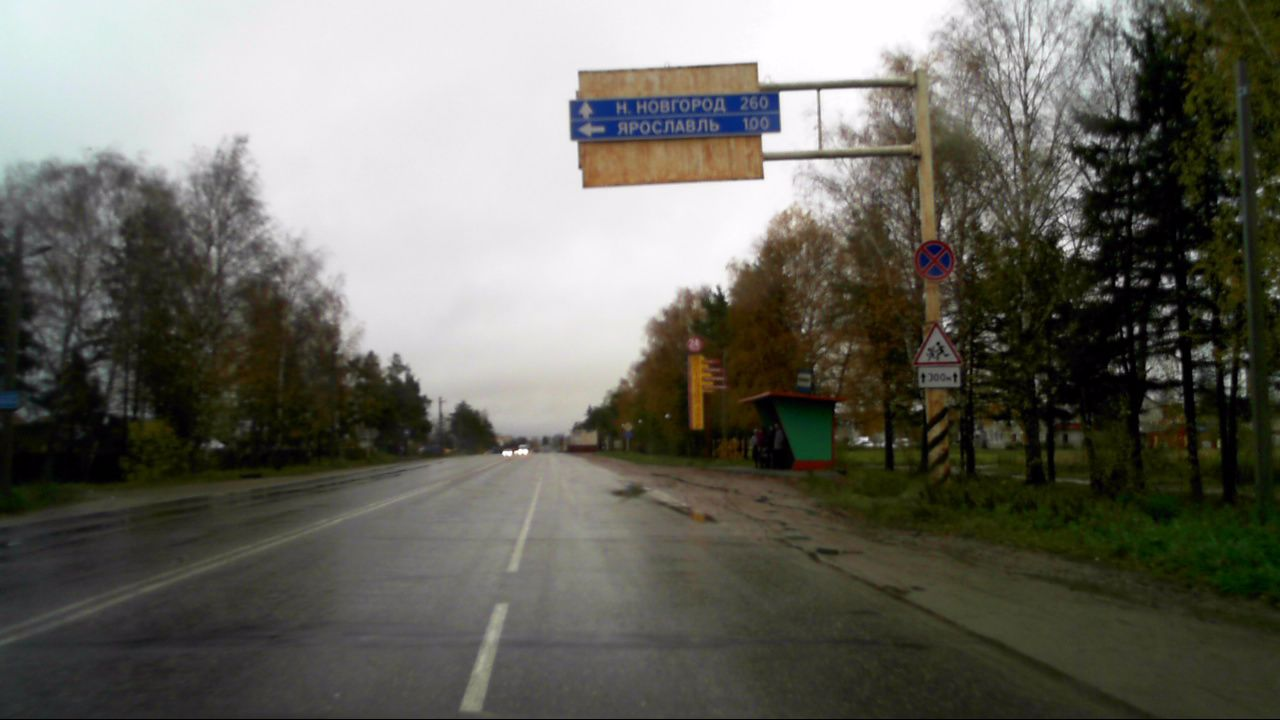No Parking: (913, 238, 955, 281)
